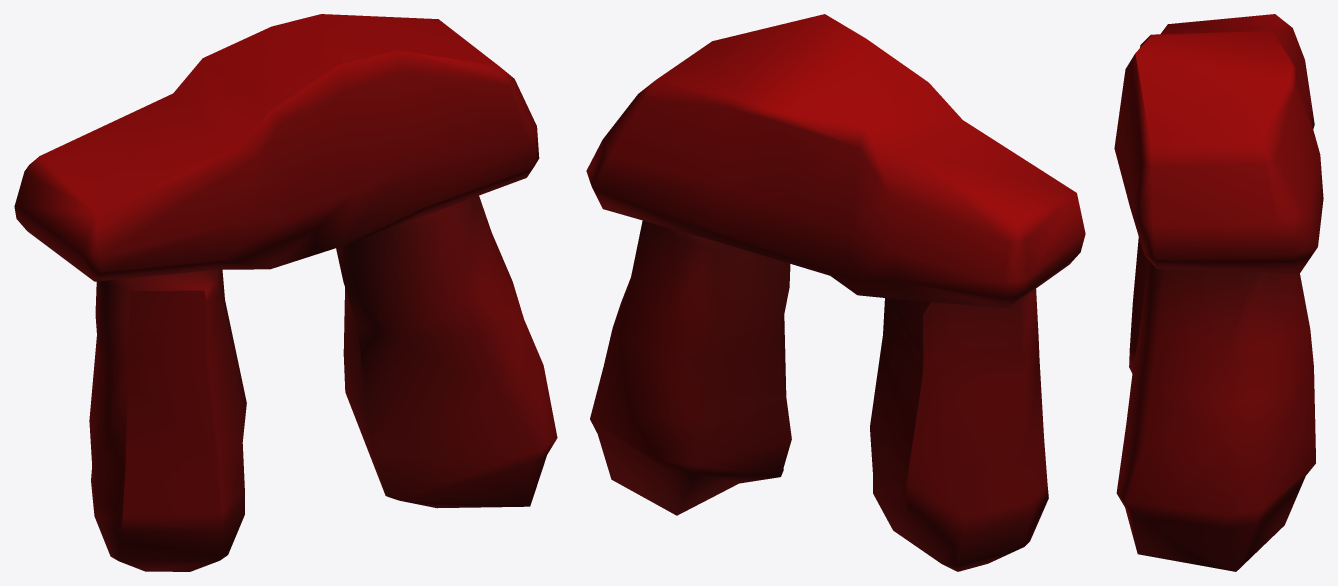
Rendered from geology-carvedstone-dolmen_v1.fbx.
The picture shows the model from 3 angles, left to right: view 1: azimuth 30°, elevation 25°; view 2: azimuth 150°, elevation 25°; view 3: azimuth 270°, elevation 25°; orthographic projection. The views are drawn at different scales.
Parts seen in each view (by area): view 1: Dolmen_v1; view 2: Dolmen_v1; view 3: Dolmen_v1.
Part boxes in pixels (left/top/right/bottom): Dolmen_v1: left=14, top=14, right=557, bottom=571; Dolmen_v1: left=586, top=14, right=1085, bottom=571; Dolmen_v1: left=1114, top=14, right=1323, bottom=571.
Size of the model in its own units: 10.1 by 9.88 by 4.15.
